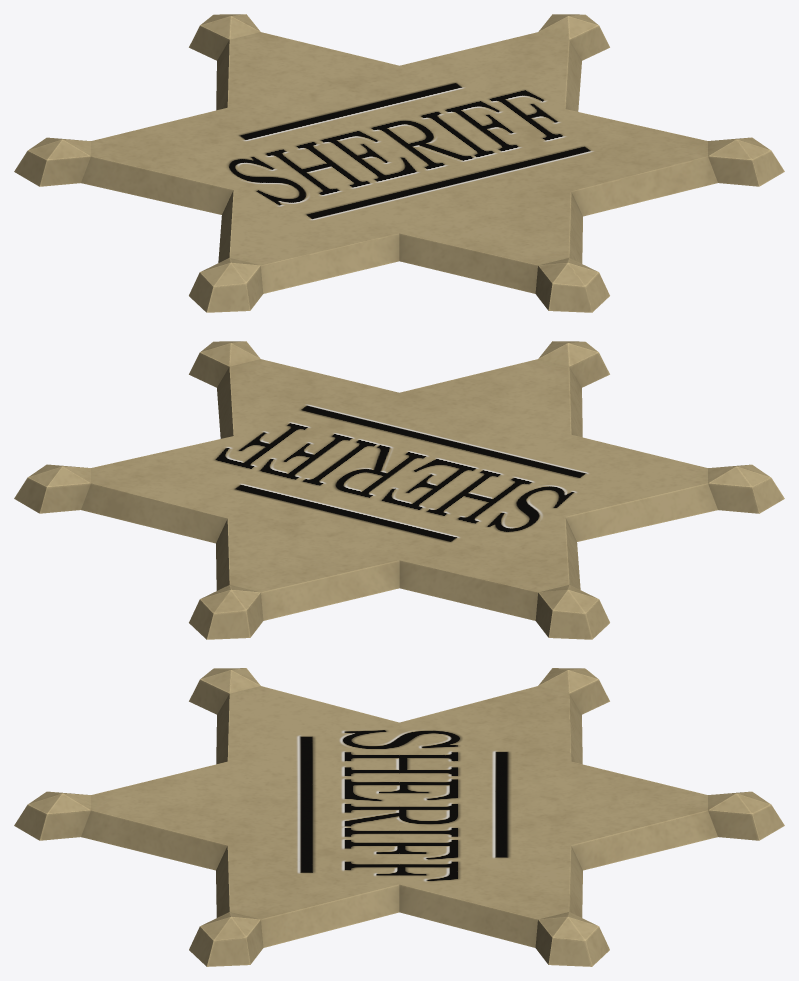
The model's file is 660cda61-8130-4323-ac44-7f1add275530.glb.
3 renders of one model, top to bottom at view 1: azimuth 30°, elevation 25°; view 2: azimuth 150°, elevation 25°; view 3: azimuth 270°, elevation 25°, orthographic.
Parts seen in each view (by area): view 1: SheriffStar_Mesh; view 2: SheriffStar_Mesh; view 3: SheriffStar_Mesh.
Boxes of the visible parts, bbox=[...] form: SheriffStar_Mesh: bbox=[14, 14, 784, 312]; SheriffStar_Mesh: bbox=[14, 341, 784, 639]; SheriffStar_Mesh: bbox=[14, 668, 784, 966].
Bounding box in the file's own units: 1.96 × 0.1047 × 2.26.
1 material, 1 textured.
